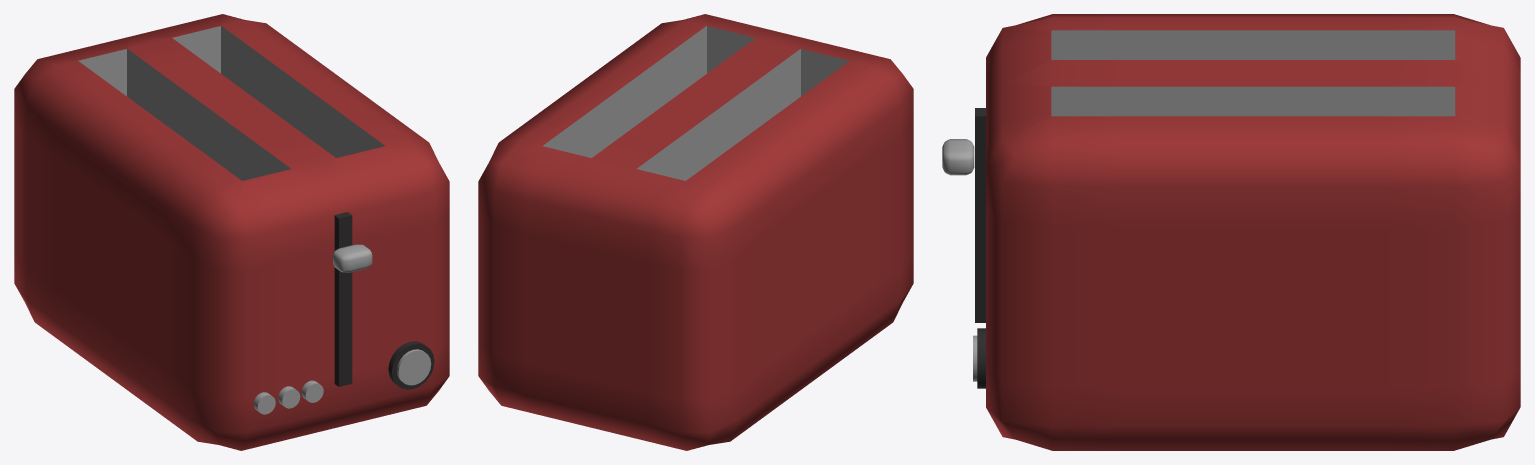
The model's file is toaster.fbx.
The picture shows the model from 3 angles, left to right: view 1: azimuth 30°, elevation 25°; view 2: azimuth 150°, elevation 25°; view 3: azimuth 270°, elevation 25°; orthographic projection. The views are drawn at different scales.
Parts seen in each view (by area): view 1: body1, sliderBase, buttonMiddle, sliderButton, buttonBase; view 2: body1; view 3: body1, sliderBase, sliderButton.
Boxes of the visible parts, box(x1,y1,x2,y2) form: body1: box(14, 14, 449, 450); sliderBase: box(334, 212, 352, 386); buttonMiddle: box(397, 349, 431, 385); sliderButton: box(333, 244, 372, 272); buttonBase: box(388, 341, 434, 389); body1: box(478, 14, 913, 450); body1: box(986, 14, 1520, 450); sliderBase: box(975, 108, 986, 322); sliderButton: box(942, 139, 974, 175).
Bounding box in the file's own units: 1.61 × 1.61 × 2.65.
